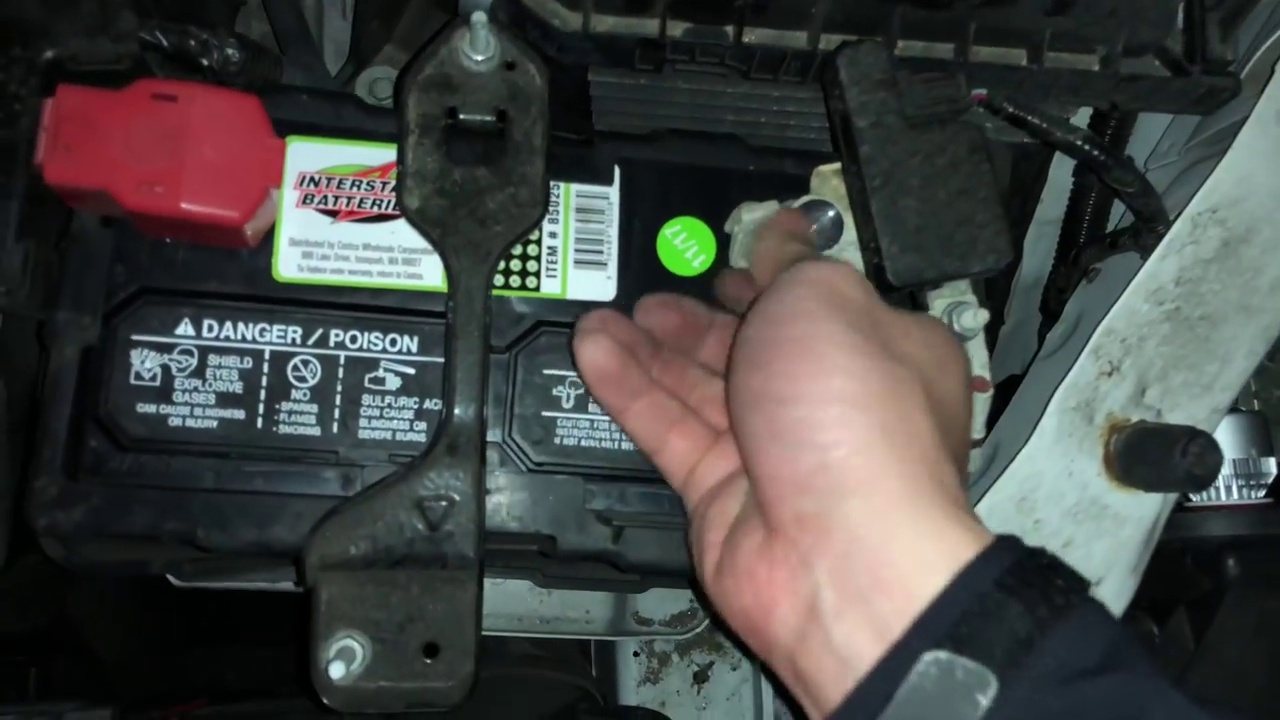battery: (115, 108, 851, 558)
neg_touched: (695, 156, 883, 431)
pos_connected: (3, 68, 316, 256)
